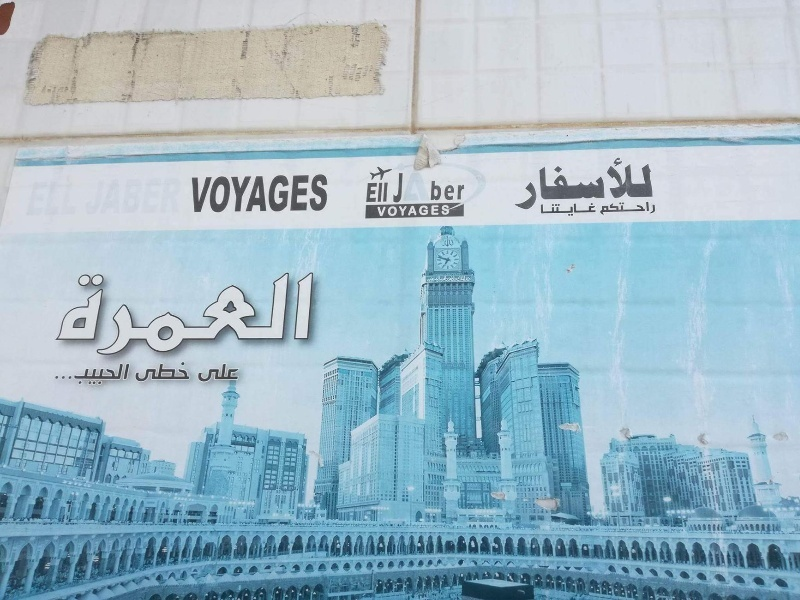text: (65, 269, 80, 360), (81, 269, 96, 360), (97, 269, 112, 360), (113, 269, 128, 360), (129, 269, 144, 360), (145, 269, 160, 360), (161, 269, 176, 360), (177, 269, 192, 360), (193, 269, 208, 360), (209, 269, 224, 360), (225, 269, 240, 360), (241, 269, 256, 360), (257, 269, 272, 360), (273, 269, 288, 360), (289, 269, 304, 360), (305, 269, 316, 360), (641, 156, 657, 211), (529, 156, 544, 211), (545, 156, 560, 211), (561, 156, 576, 211), (577, 156, 592, 211), (593, 156, 608, 211), (609, 156, 624, 211), (625, 156, 640, 211), (57, 269, 64, 360), (193, 173, 208, 214), (209, 173, 224, 214), (225, 173, 240, 214), (241, 173, 256, 214), (257, 173, 272, 214), (273, 173, 288, 214), (289, 173, 304, 214), (305, 173, 320, 214), (517, 156, 528, 211), (401, 172, 416, 204), (417, 172, 432, 204), (433, 172, 448, 204), (449, 172, 464, 204), (65, 364, 80, 387), (81, 364, 96, 387), (97, 364, 112, 387), (113, 364, 128, 387), (225, 363, 241, 384), (145, 361, 160, 383), (161, 361, 176, 383), (177, 361, 192, 383), (369, 183, 384, 205), (321, 173, 329, 214), (209, 363, 224, 384), (392, 172, 400, 204), (54, 364, 64, 387), (609, 202, 624, 217), (625, 202, 640, 217), (641, 202, 656, 217), (545, 203, 560, 217), (561, 203, 576, 217), (577, 203, 592, 217), (385, 204, 400, 218), (401, 204, 416, 218), (417, 204, 432, 218), (433, 204, 448, 218), (135, 361, 144, 383), (199, 363, 208, 384), (385, 183, 392, 205), (599, 202, 608, 217), (375, 204, 384, 218), (189, 173, 192, 214), (433, 276, 448, 283), (449, 276, 464, 283), (465, 172, 468, 204), (442, 235, 448, 248), (449, 235, 454, 248), (540, 203, 544, 217), (593, 203, 597, 217), (465, 276, 472, 283), (129, 364, 131, 387), (426, 276, 432, 283), (449, 204, 451, 218)
